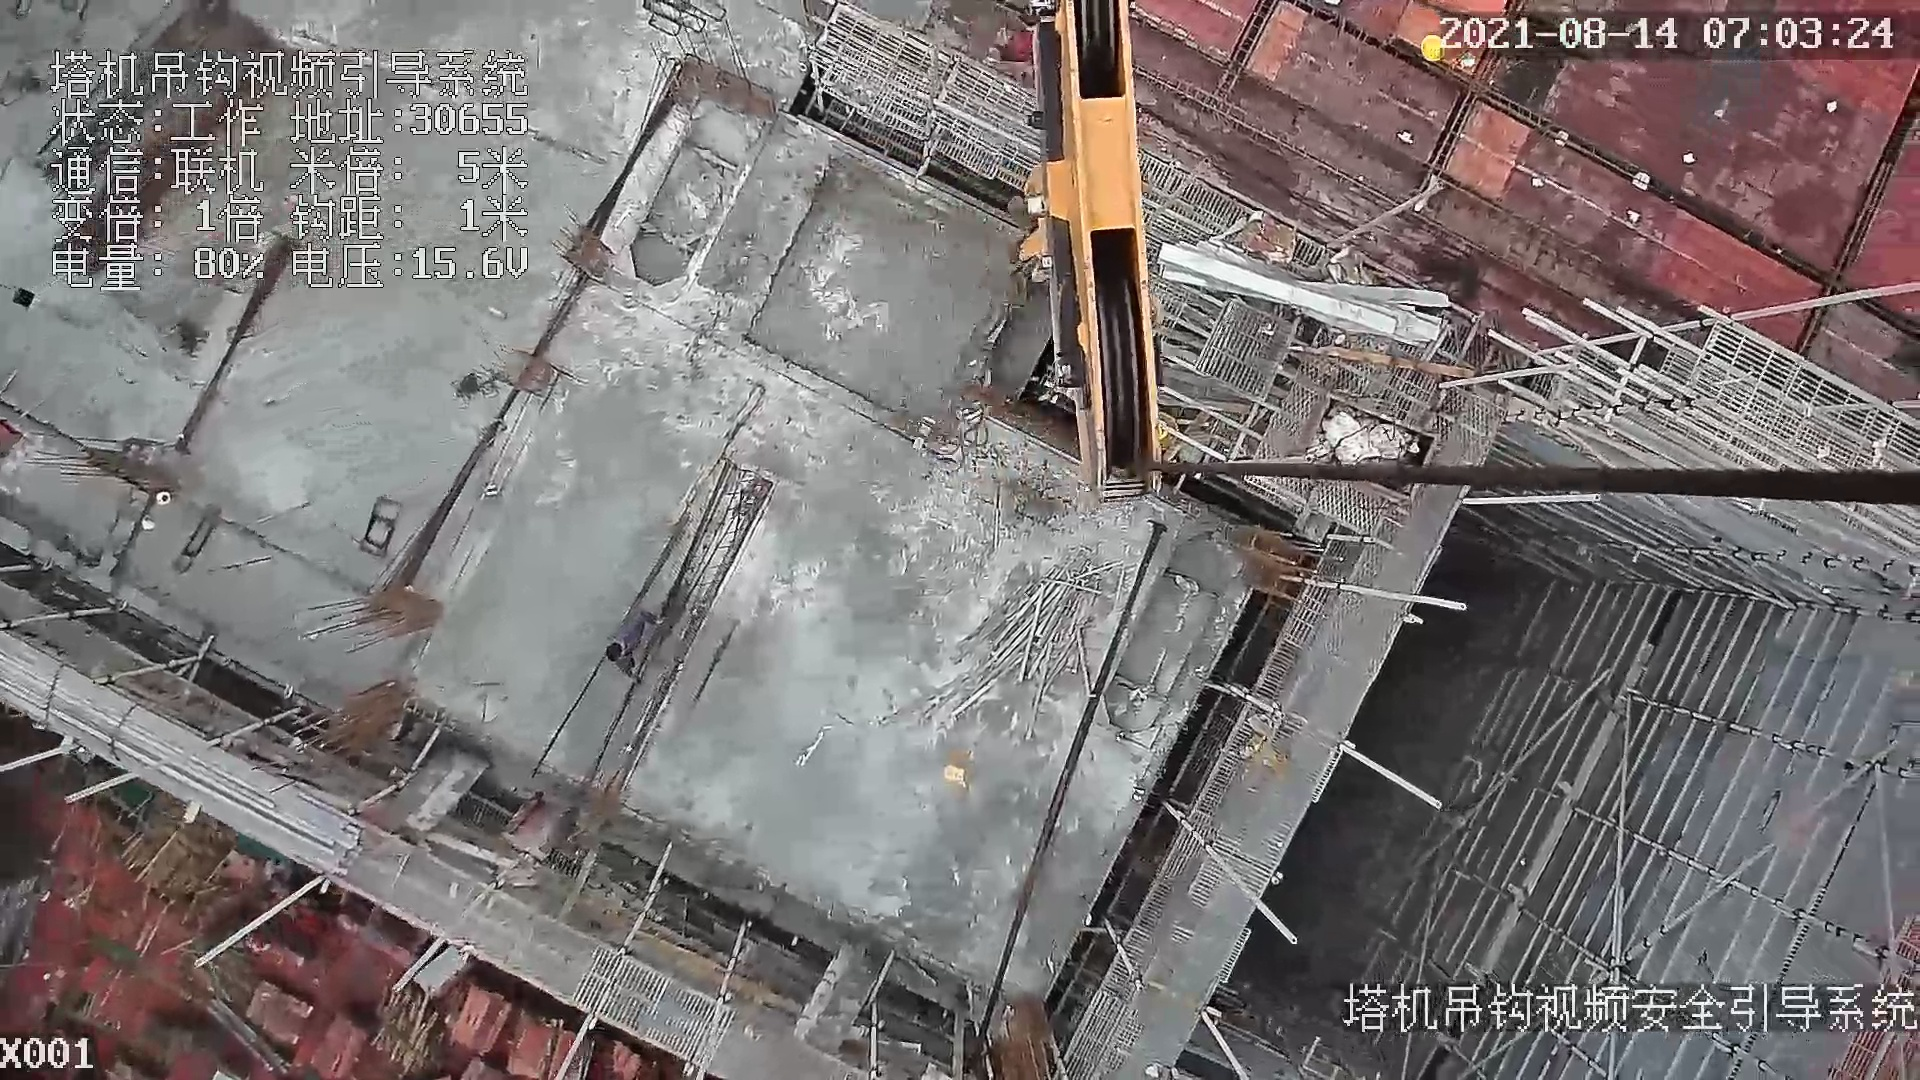helmet: (1418, 33, 1446, 62)
hook: (1013, 1, 1165, 501)
person: (612, 617, 656, 680)
